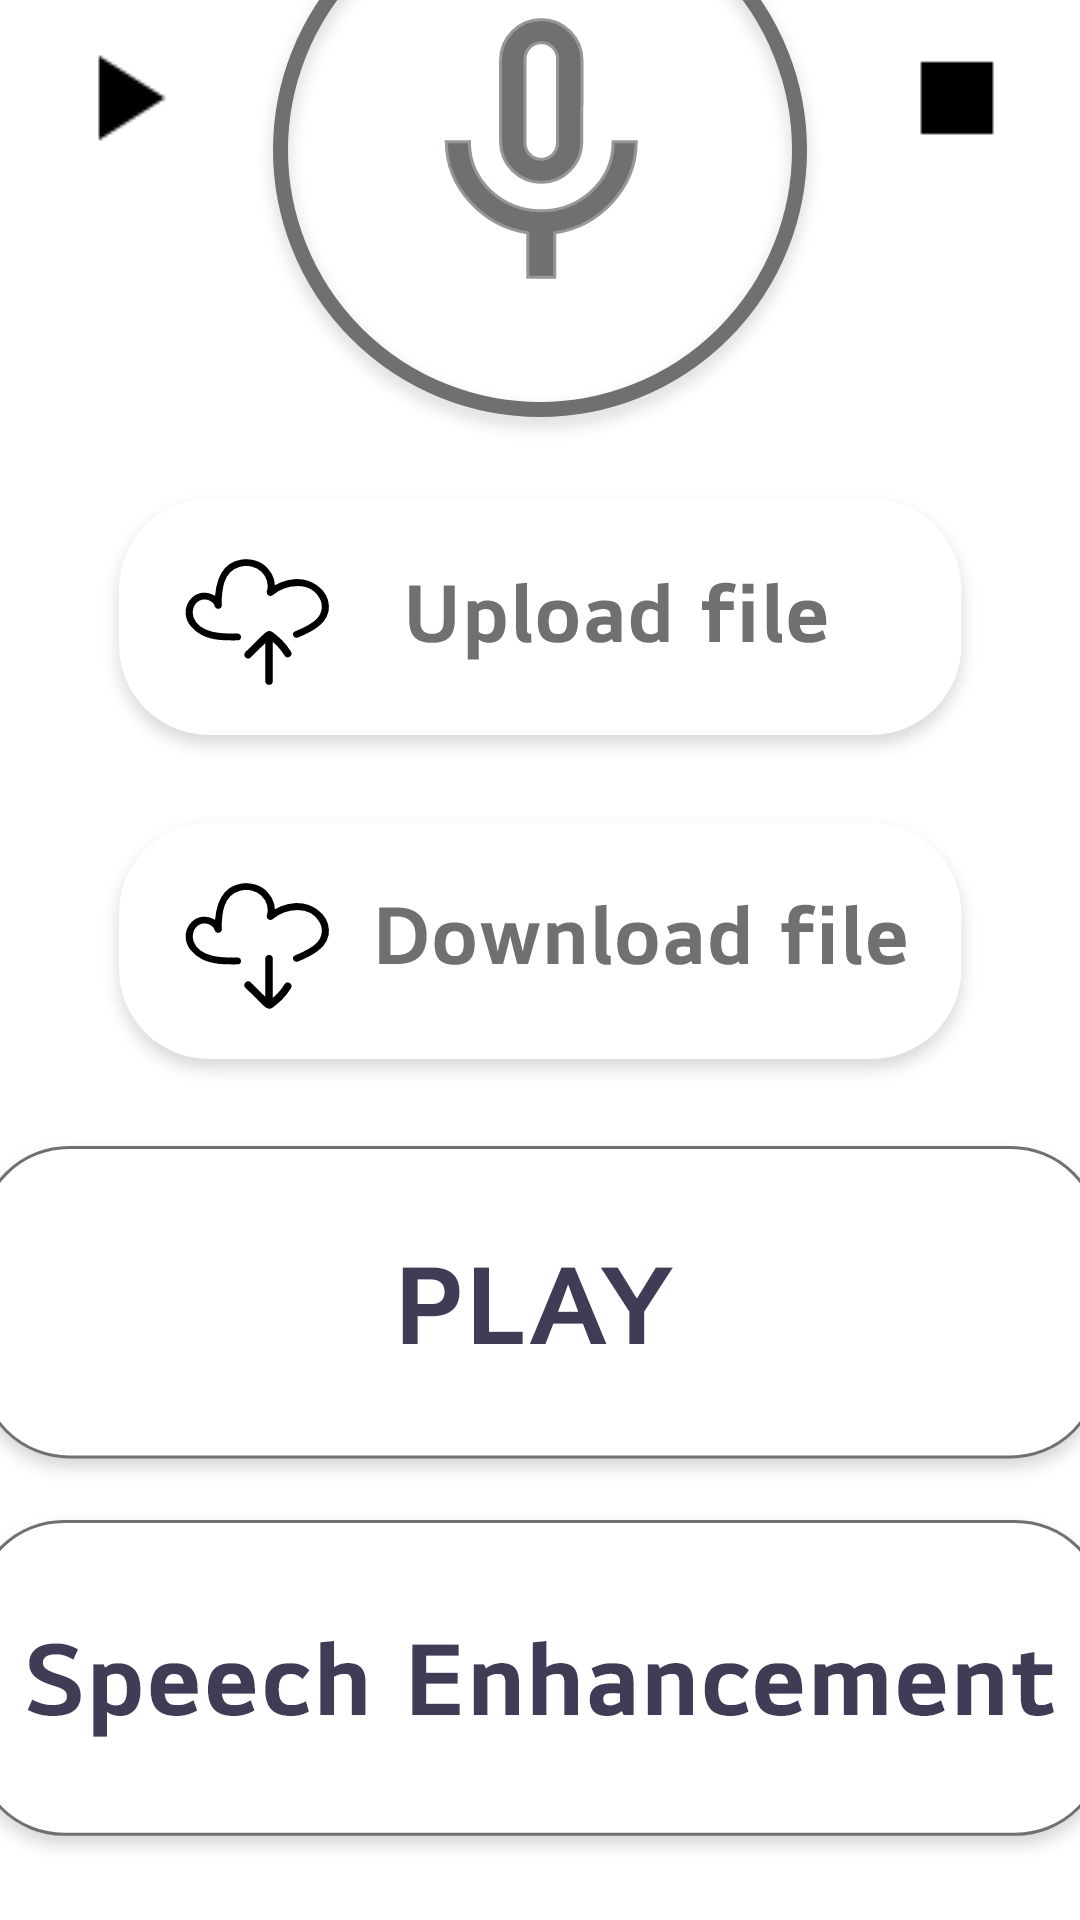

Named icons in this screenshot (1080px x 1920px) and their centers, (x=x, y=y):
audio stop: (x=957, y=98)
